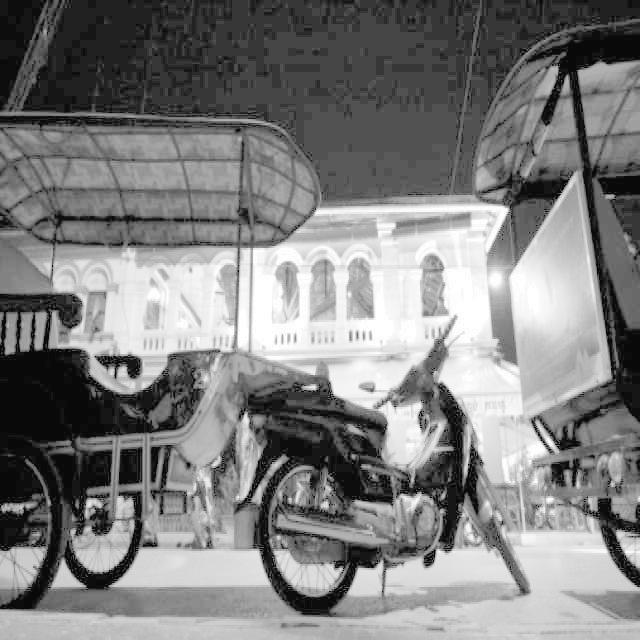Motorcycle: (229, 312, 532, 614)
